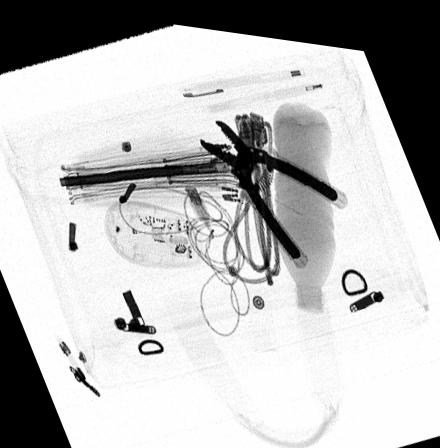Pliers: (199, 112, 338, 253)
